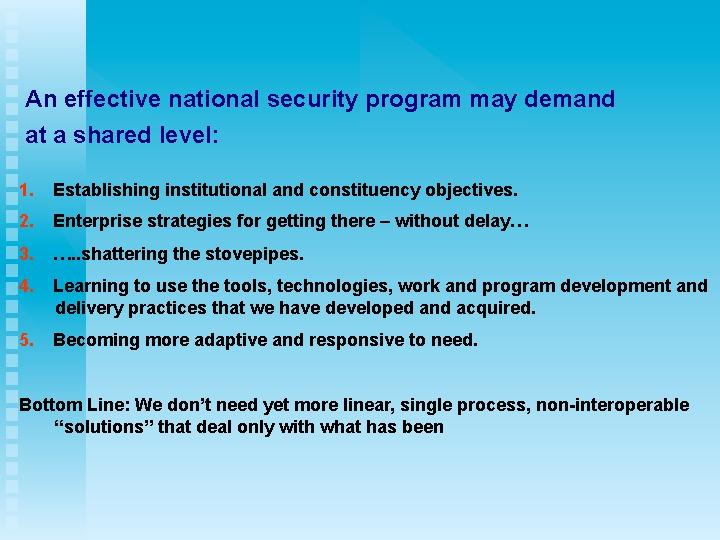paragraph: (12, 171, 716, 457)
title: (14, 79, 645, 156)
